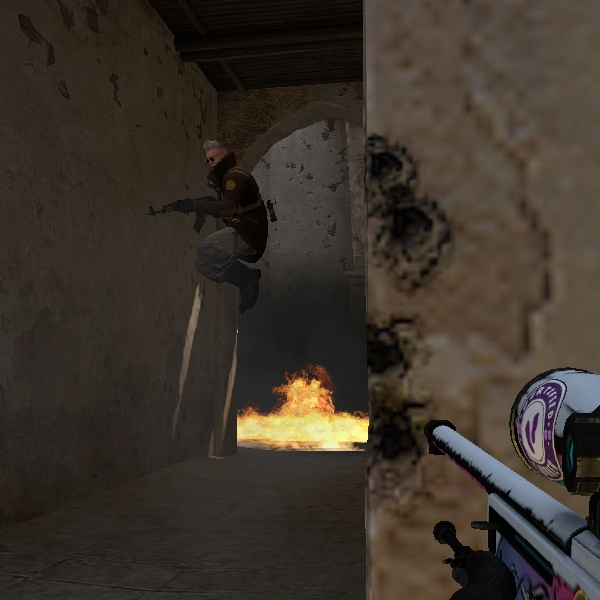t_body: (178, 137, 280, 304)
t_head: (191, 134, 243, 189)
